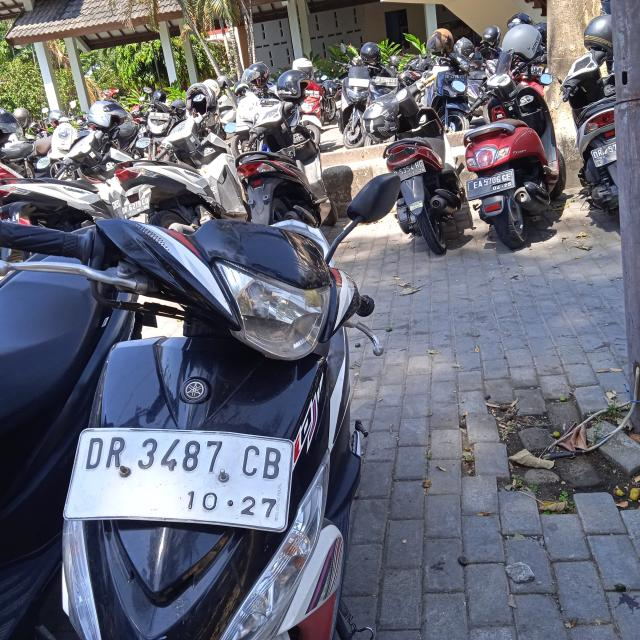plate: (59, 430, 294, 528), (465, 167, 515, 202), (391, 159, 427, 182), (121, 196, 150, 220)
